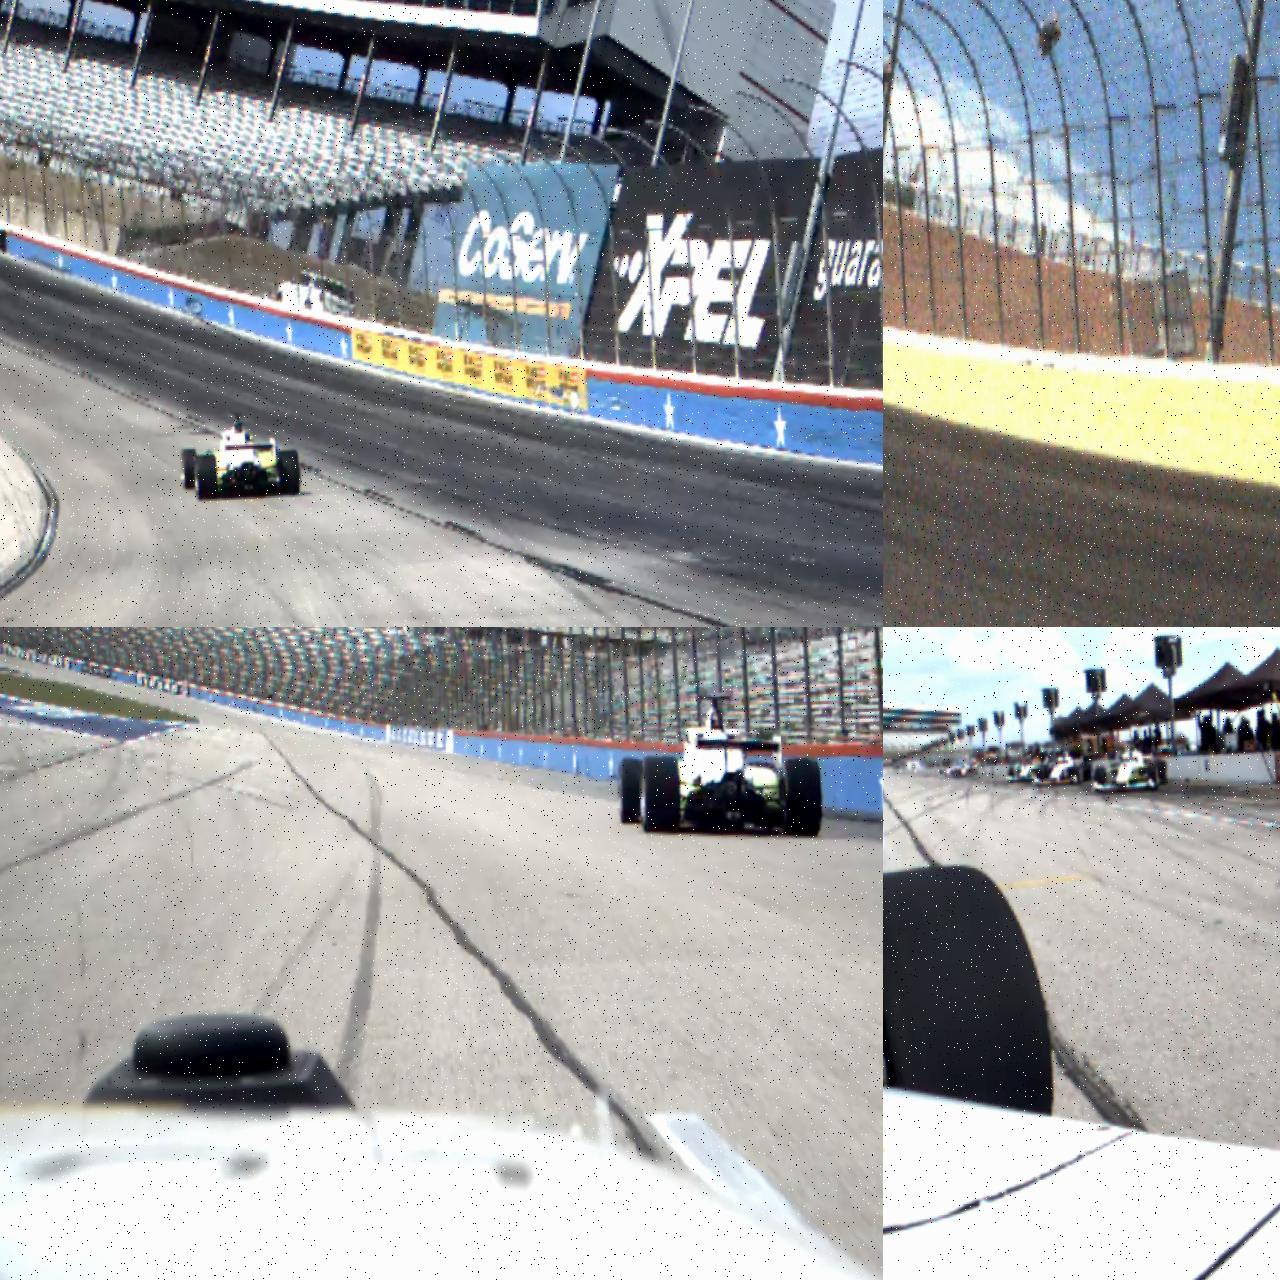AV: (612, 687, 825, 847), (177, 409, 301, 502), (1090, 738, 1169, 794), (1035, 747, 1091, 789)
Wheel: (883, 859, 1055, 1132), (638, 754, 682, 835), (783, 756, 824, 838), (617, 757, 649, 826), (195, 454, 218, 501), (278, 449, 301, 496), (181, 447, 198, 491), (1094, 765, 1107, 791), (1157, 760, 1167, 784), (1148, 765, 1158, 789), (1071, 764, 1082, 783)
